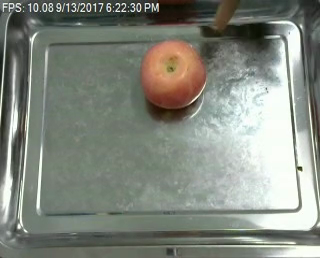Apple: (136, 38, 210, 111)
